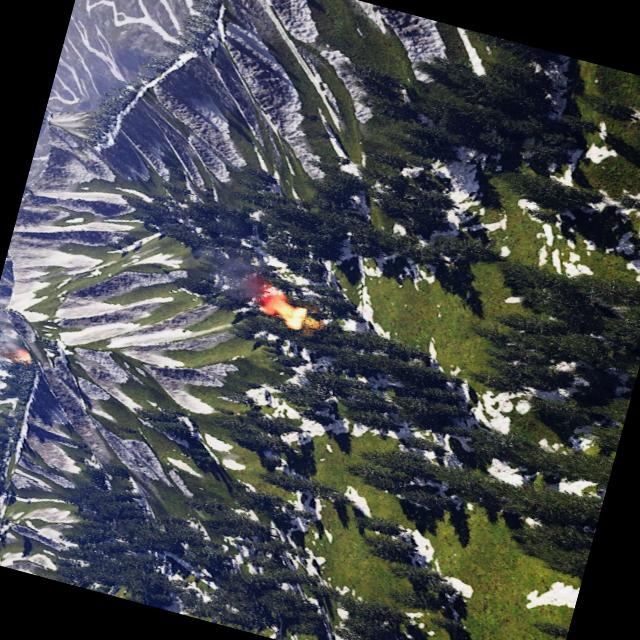fire: (268, 296, 310, 331), (12, 347, 32, 363)
smoke: (190, 244, 288, 314), (0, 325, 23, 358)
